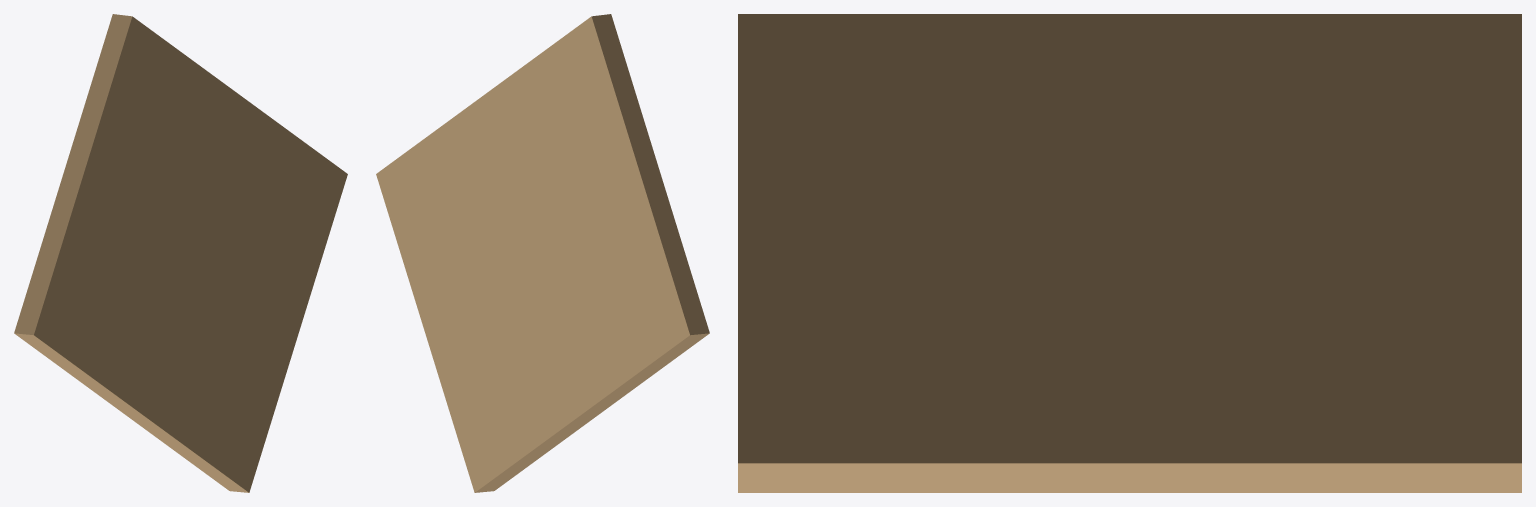
3 views of the same model, side by side, from view 1: azimuth 30°, elevation 25°; view 2: azimuth 150°, elevation 25°; view 3: azimuth 270°, elevation 25° (orthographic). The views are drawn at different scales.
Parts seen in each view (by area): view 1: 0_2_1_3_0_0_0_0_0_2; view 2: 0_2_1_3_0_0_0_0_0_2; view 3: 0_2_1_3_0_0_0_0_0_2.
Boxes of the visible parts, bbox=[...] form: 0_2_1_3_0_0_0_0_0_2: bbox=[14, 14, 347, 492]; 0_2_1_3_0_0_0_0_0_2: bbox=[376, 14, 709, 492]; 0_2_1_3_0_0_0_0_0_2: bbox=[738, 14, 1521, 492].
Size of the model in its own units: 7.61 by 18.55 by 24.
